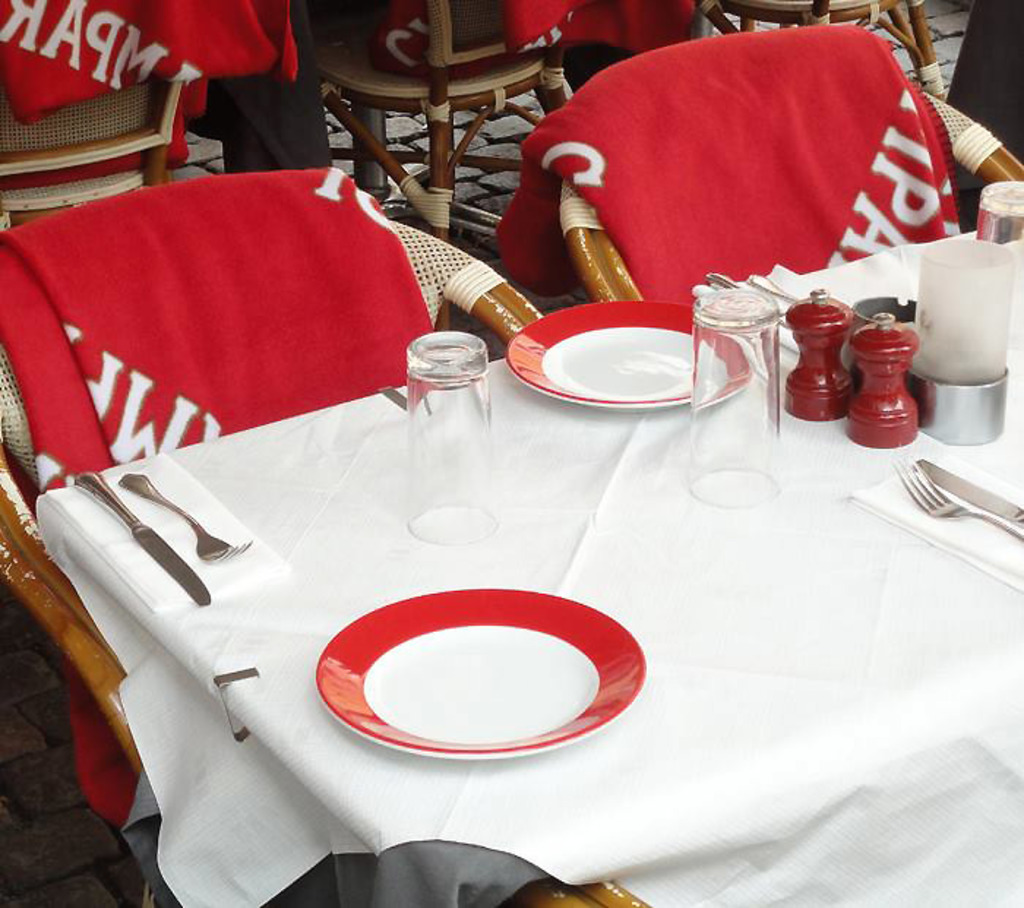plate: (315, 589, 643, 758)
